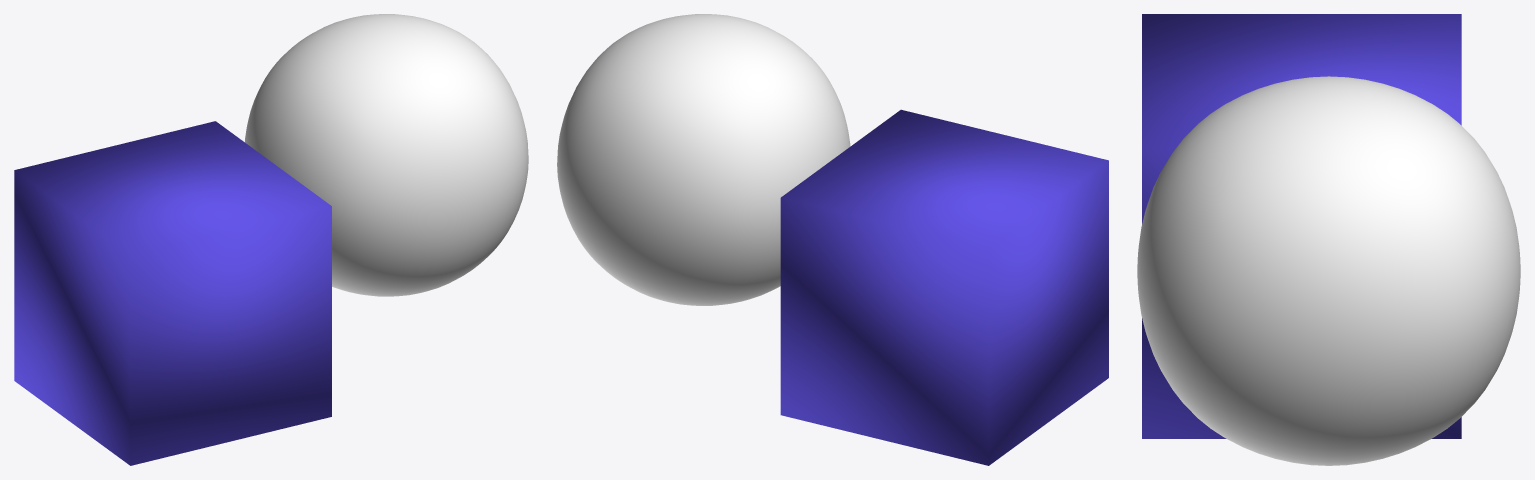
3 views of the same model, side by side, from view 1: azimuth 30°, elevation 25°; view 2: azimuth 150°, elevation 25°; view 3: azimuth 270°, elevation 25° (orthographic). The views are drawn at different scales.
Visible parts, largest first — view 1: Cube, Cube.001; view 2: Cube, Cube.001; view 3: Cube.001, Cube.
Boxes of the visible parts, x1,y1,x2,y2 form: Cube: (14, 121, 331, 465); Cube.001: (245, 14, 528, 296); Cube: (780, 109, 1108, 465); Cube.001: (557, 14, 850, 305); Cube.001: (1137, 76, 1520, 465); Cube: (1142, 14, 1461, 438).
Bounding box in the file's own units: 4.42 × 2.93 × 2.4.
